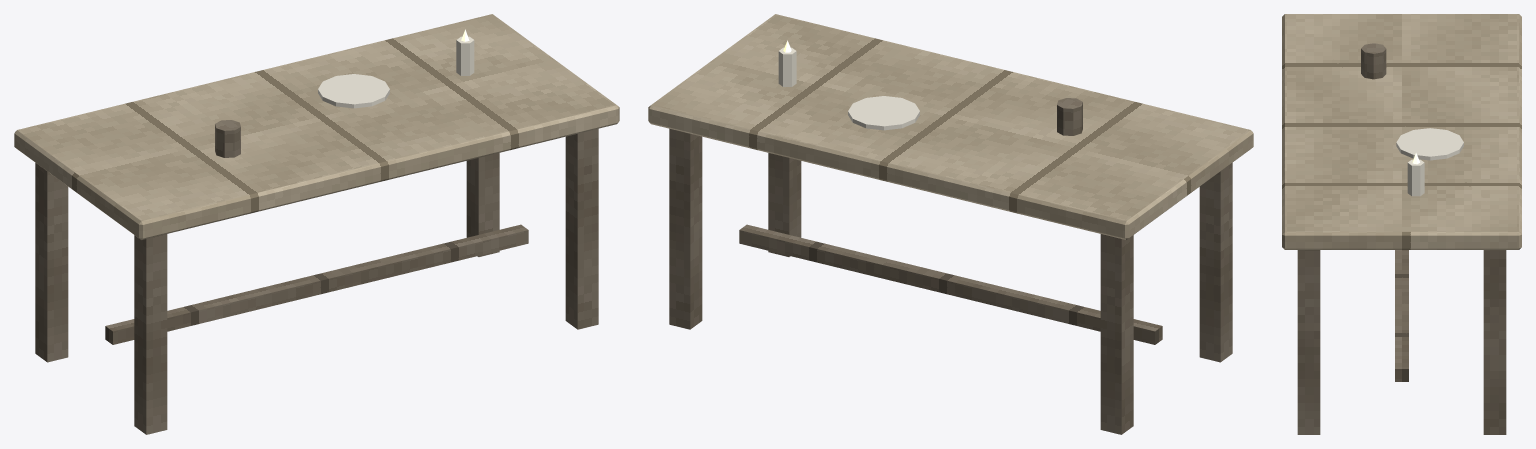
The model's file is table_wood.glb.
3 renders of one model, left to right at view 1: azimuth 30°, elevation 25°; view 2: azimuth 150°, elevation 25°; view 3: azimuth 270°, elevation 25°, orthographic. The views are drawn at different scales.
Visible parts, largest first — view 1: body; view 2: body; view 3: body.
Boxes of the visible parts, box(x1,y1,x2,y2) form: body: box(14, 14, 619, 434); body: box(648, 14, 1253, 434); body: box(1282, 14, 1521, 434).
Bounding box in the file's own units: 1.85 × 0.98 × 0.85.
Materials: 5 (2 with a texture image).
